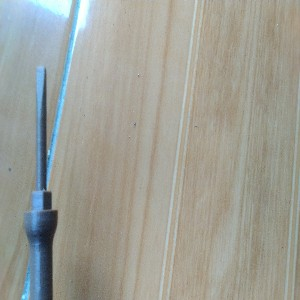obeng: (22, 64, 58, 300)
